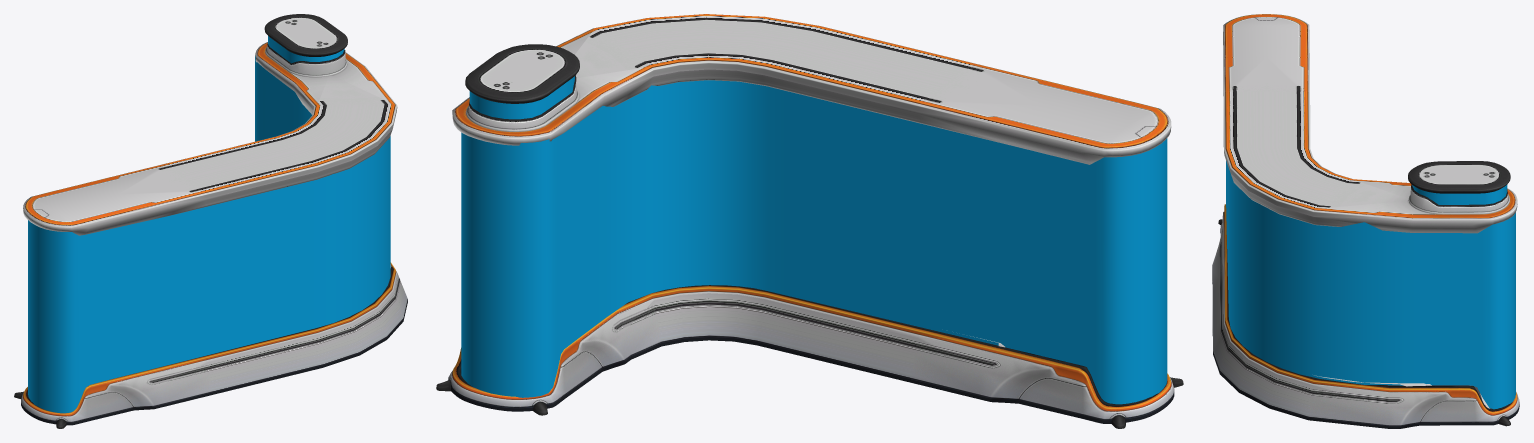
Rendered from LShapedAquariumModel.fbx.
The picture shows the model from 3 angles, left to right: view 1: azimuth 30°, elevation 25°; view 2: azimuth 150°, elevation 25°; view 3: azimuth 270°, elevation 25°; orthographic projection. The views are drawn at different scales.
Visible parts, largest first — view 1: Aquarium_glass, Aquarium_1; view 2: Aquarium_glass, Aquarium_1; view 3: Aquarium_glass, Aquarium_1.
Boxes of the visible parts, x1,y1,x2,y2 form: Aquarium_glass: [28, 55, 390, 413]; Aquarium_1: [14, 14, 407, 428]; Aquarium_glass: [461, 80, 1167, 404]; Aquarium_1: [436, 14, 1183, 428]; Aquarium_glass: [1226, 161, 1515, 409]; Aquarium_1: [1212, 14, 1519, 428].
Bounding box in the file's own units: 449 × 230 × 276.
